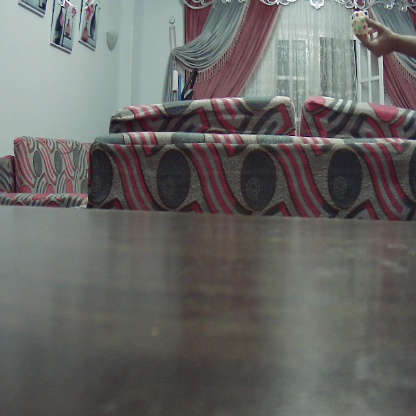Rubix Cube: (351, 11, 370, 33)
